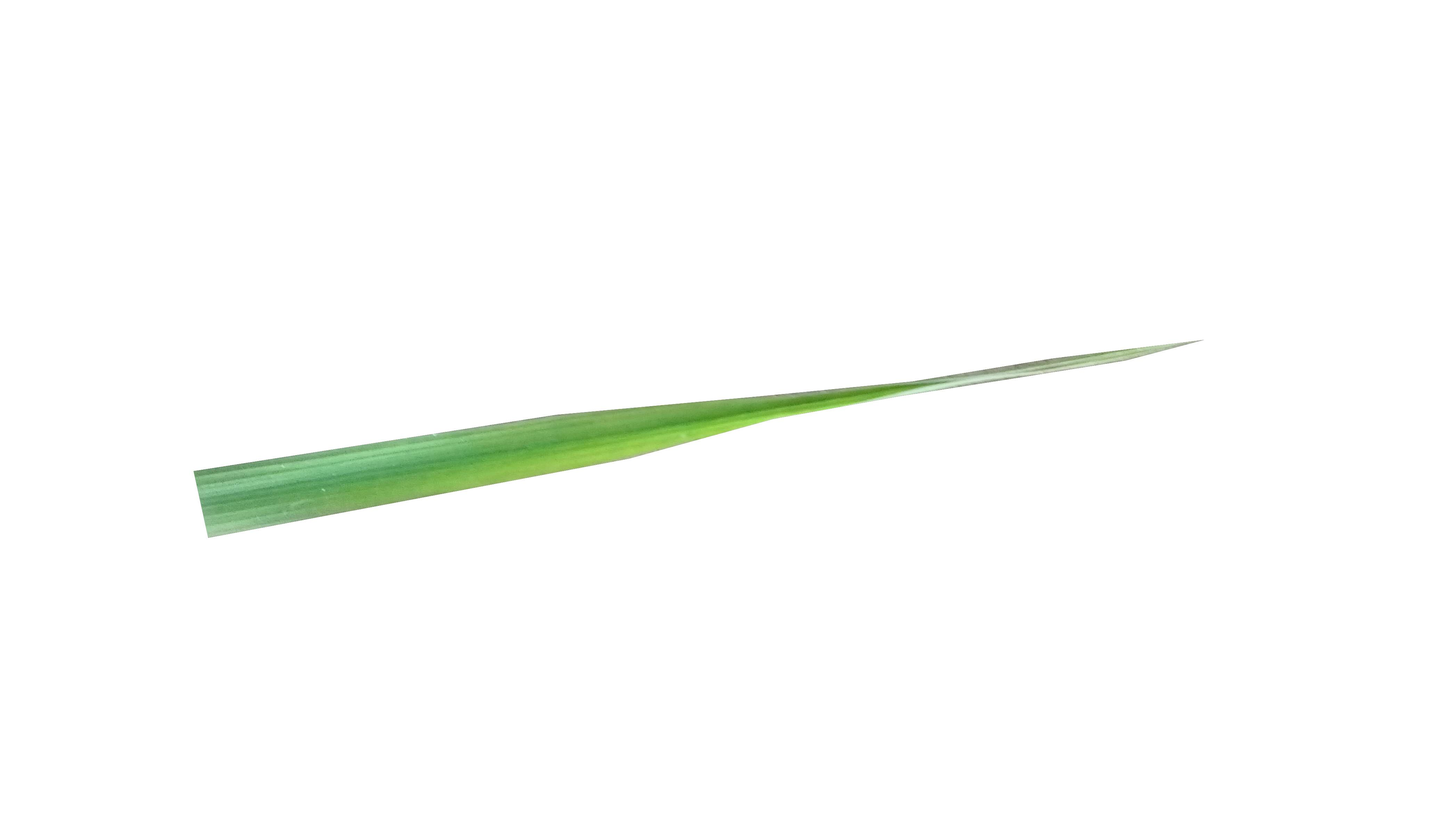Tungro: (299, 400, 829, 512)
